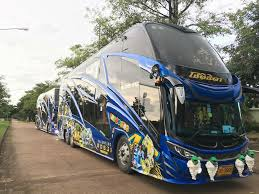bus: (57, 22, 255, 185)
